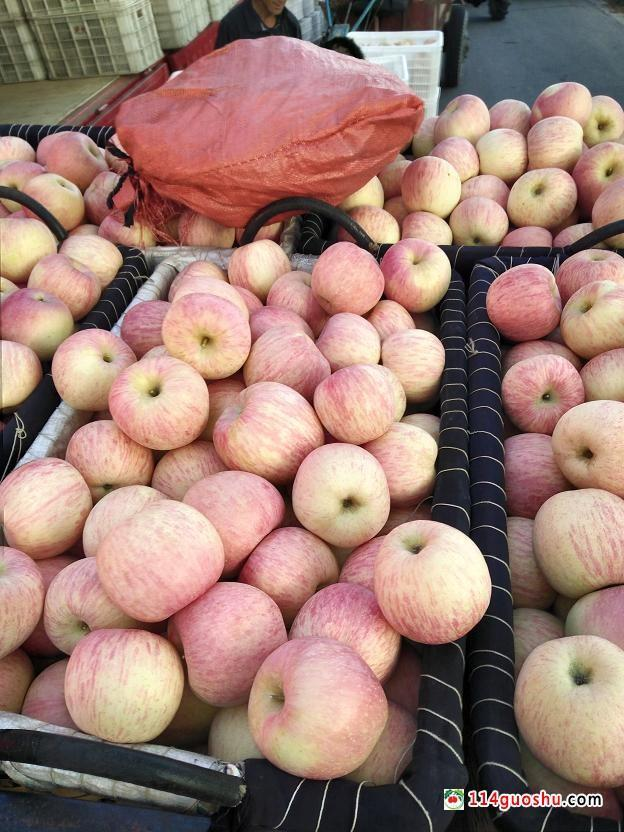apple: (242, 630, 403, 785), (509, 631, 624, 783), (369, 516, 494, 647), (58, 626, 183, 745), (96, 499, 221, 618), (180, 579, 291, 711), (214, 381, 323, 481), (291, 440, 392, 547), (527, 483, 620, 596), (296, 580, 397, 682), (108, 357, 209, 454), (1, 458, 95, 558), (160, 289, 253, 379), (311, 365, 406, 445), (550, 399, 624, 498), (49, 328, 135, 412), (501, 352, 584, 436), (242, 326, 331, 401), (484, 262, 561, 342), (27, 250, 104, 326), (501, 432, 567, 520), (314, 242, 387, 317), (377, 238, 450, 313), (557, 280, 623, 355), (506, 167, 576, 231), (404, 155, 461, 215), (434, 90, 491, 150)
